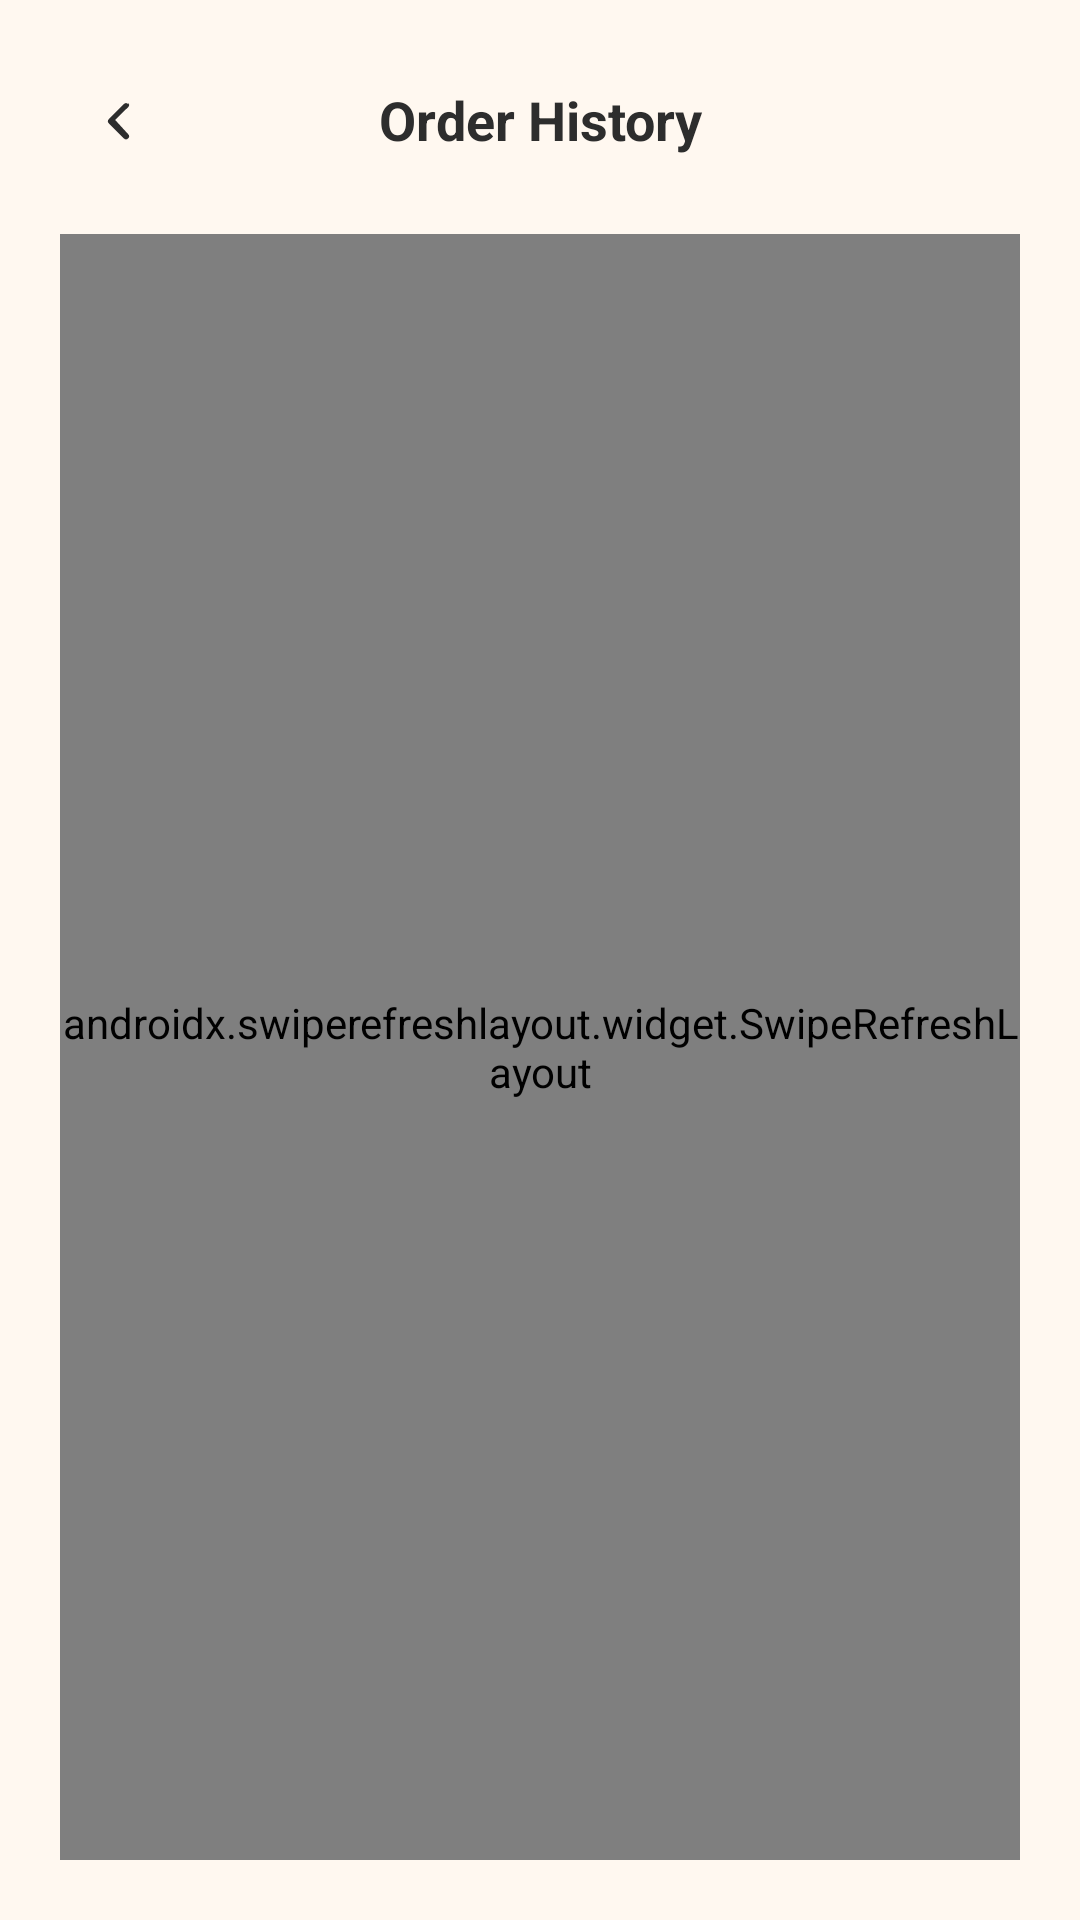

Named icons in this screenshot (1080 x 1920) and their bounding boxes, [x1, y1, x2, y2]:
chevron left: [107, 103, 130, 140]
